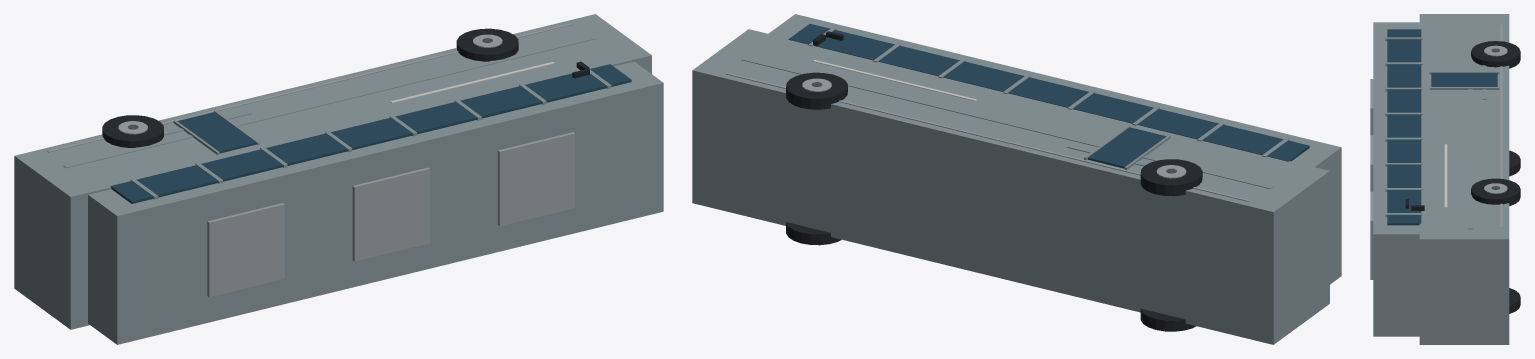
The model's file is RM_Bus_37.glb.
The picture shows the model from 3 angles, left to right: view 1: azimuth 30°, elevation 25°; view 2: azimuth 150°, elevation 25°; view 3: azimuth 270°, elevation 25°; orthographic projection. The views are drawn at different scales.
Parts seen in each view (by area): view 1: part_001, part_000, part_002, part_039, part_037, part_038, part_013, part_040, part_030, part_024, part_014; view 2: part_000, part_002, part_001, part_013, part_040, part_024, part_030, part_014, part_021, part_027; view 3: part_000, part_001, part_002, part_030, part_024, part_040, part_013, part_014, part_039, part_043, part_021, part_027 (+6 smaller).
Part boxes in pixels (<box>): part_001: <box>88,61,663,344</box>; part_000: <box>14,14,651,329</box>; part_002: <box>110,64,631,203</box>; part_039: <box>498,132,575,225</box>; part_037: <box>207,203,284,296</box>; part_038: <box>352,167,429,261</box>; part_013: <box>63,36,594,168</box>; part_040: <box>177,112,256,153</box>; part_030: <box>456,28,518,61</box>; part_024: <box>102,115,163,147</box>; part_014: <box>47,23,571,152</box>; part_000: <box>692,29,1329,344</box>; part_002: <box>788,24,1309,161</box>; part_001: <box>768,14,1341,284</box>; part_013: <box>741,57,1273,188</box>; part_040: <box>1088,127,1166,168</box>; part_024: <box>1140,159,1202,196</box>; part_030: <box>786,72,847,109</box>; part_014: <box>725,72,1249,201</box>; part_021: <box>1140,308,1195,331</box>; part_027: <box>786,222,841,245</box>; part_000: <box>1419,14,1509,344</box>; part_001: <box>1373,22,1419,336</box>; part_002: <box>1387,29,1421,225</box>; part_030: <box>1471,178,1520,205</box>; part_024: <box>1471,41,1520,68</box>; part_040: <box>1431,73,1497,86</box>; part_013: <box>1468,23,1472,229</box>; part_014: <box>1500,24,1502,227</box>; part_039: <box>1370,191,1373,279</box>; part_043: <box>1444,144,1447,207</box>; part_021: <box>1509,150,1520,176</box>; part_027: <box>1509,288,1520,313</box>.
Bounding box in the file's own units: 11.22 × 2.77 × 3.16.
